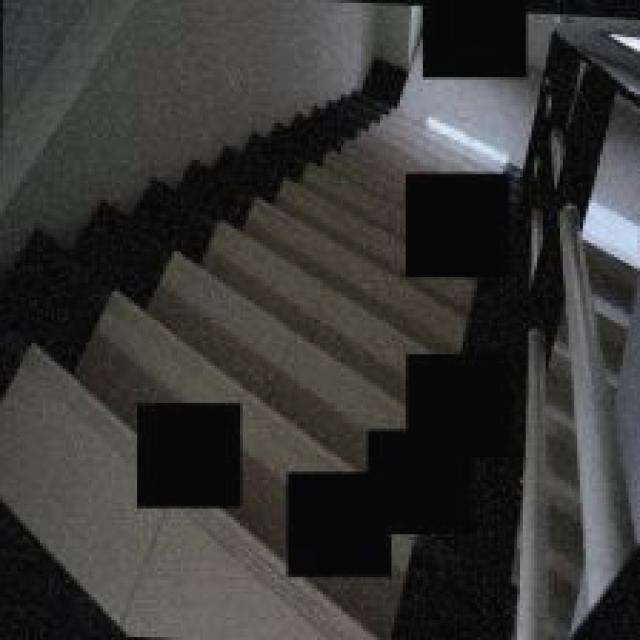downstair: (190, 184, 381, 392)
